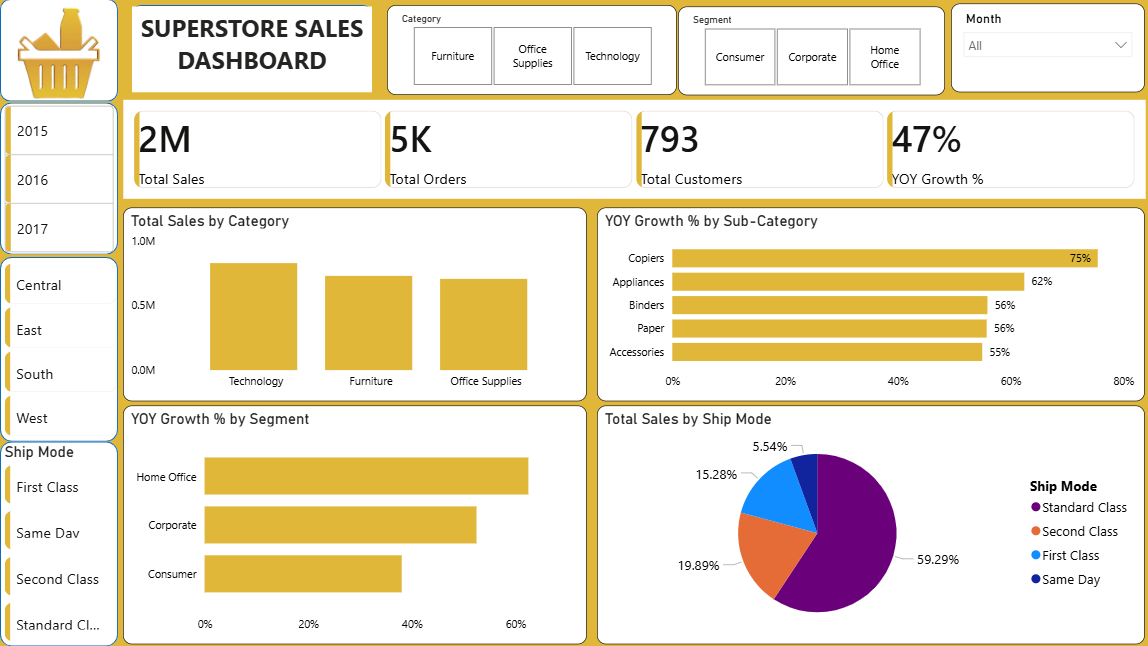

The page's visual inventory and layout, read from the dashboard file:
{"tool":"powerbi","page":{"name":"Dashboard","canvas":[1280,720],"ordinal":0},"visuals":[{"type":"shape","box":[0,0,131,113.8],"z":0},{"type":"image","box":[0,0,131,120.7],"z":1000},{"type":"shape","box":[0,115.5,131,169],"z":2000},{"type":"shape","box":[0,286.2,131,205.2],"z":3000},{"type":"advancedSlicerVisual","fields":{"Values":["Calendar.Date.Variation.Date Hierarchy.Year"]},"box":[0,113.8,131,174.1],"z":4000},{"type":"advancedSlicerVisual","fields":{"Values":["supermarket.Region"]},"box":[0,287.9,134.5,205.2],"z":5000},{"type":"shape","box":[0,491.4,131,227.6],"z":6000},{"type":"shape","box":[146.7,6.7,266.7,96.7],"z":7000},{"type":"advancedSlicerVisual","fields":{"Values":["supermarket.Ship Mode"]},"box":[0,493.1,131,225.9],"z":8000},{"type":"cardVisual","fields":{"Data":["supermarket.Total Sales","supermarket.Total Orders","supermarket.Total Customers","supermarket.YOY Growth %"]},"box":[131.7,106.7,1148.3,120],"z":9000},{"type":"slicer","fields":{"Values":["supermarket.Category"]},"box":[430,6.7,321.7,100],"z":10000},{"type":"slicer","fields":{"Values":["supermarket.Segment"]},"box":[753.3,8.3,296.7,98.3],"z":11000},{"type":"clusteredColumnChart","fields":{"Y":["supermarket.Total Sales"],"Category":["supermarket.Category"]},"box":[136.7,231.7,515,215],"z":12000},{"type":"clusteredBarChart","fields":{"Y":["supermarket.YOY Growth %"],"Category":["supermarket.Segment"]},"box":[136.7,451.7,515,265],"z":13000},{"type":"slicer","fields":{"Values":["Calendar.Date.Variation.Date Hierarchy.Month"]},"box":[1056.7,5,215,98.3],"z":14000},{"type":"clusteredBarChart","fields":{"Y":["supermarket.YOY Growth %"],"Category":["supermarket.Sub-Category"]},"box":[663.3,231.7,608.3,215],"z":15000},{"type":"pieChart","fields":{"Category":["supermarket.Ship Mode"],"Y":["supermarket.Total Sales"]},"box":[663.3,451.7,608.3,265],"z":16000},{"type":"textbox","box":[146.7,8.3,266.7,95],"z":16001}]}

Visuals, with their boxes in screenshot pixels (x1, y1, x2, y2), scaled from the page's 1280x720 canvas onto the 1148x646 screenshot:
shape: locate(0, 0, 117, 102)
image: locate(0, 0, 117, 108)
shape: locate(0, 104, 117, 255)
shape: locate(0, 257, 117, 441)
advancedSlicerVisual - Calendar.Date.Variation.Date Hierarchy.Year: locate(0, 102, 117, 258)
advancedSlicerVisual - supermarket.Region: locate(0, 258, 121, 442)
shape: locate(0, 441, 117, 645)
shape: locate(132, 6, 371, 93)
advancedSlicerVisual - supermarket.Ship Mode: locate(0, 442, 117, 645)
cardVisual - supermarket.Total Sales x supermarket.Total Orders: locate(118, 96, 1147, 203)
slicer - supermarket.Category: locate(386, 6, 674, 96)
slicer - supermarket.Segment: locate(676, 7, 942, 96)
clusteredColumnChart - supermarket.Total Sales x supermarket.Category: locate(123, 208, 584, 401)
clusteredBarChart - supermarket.YOY Growth % x supermarket.Segment: locate(123, 405, 584, 643)
slicer - Calendar.Date.Variation.Date Hierarchy.Month: locate(948, 4, 1141, 93)
clusteredBarChart - supermarket.YOY Growth % x supermarket.Sub-Category: locate(595, 208, 1140, 401)
pieChart - supermarket.Ship Mode x supermarket.Total Sales: locate(595, 405, 1140, 643)
textbox: locate(132, 7, 371, 93)
